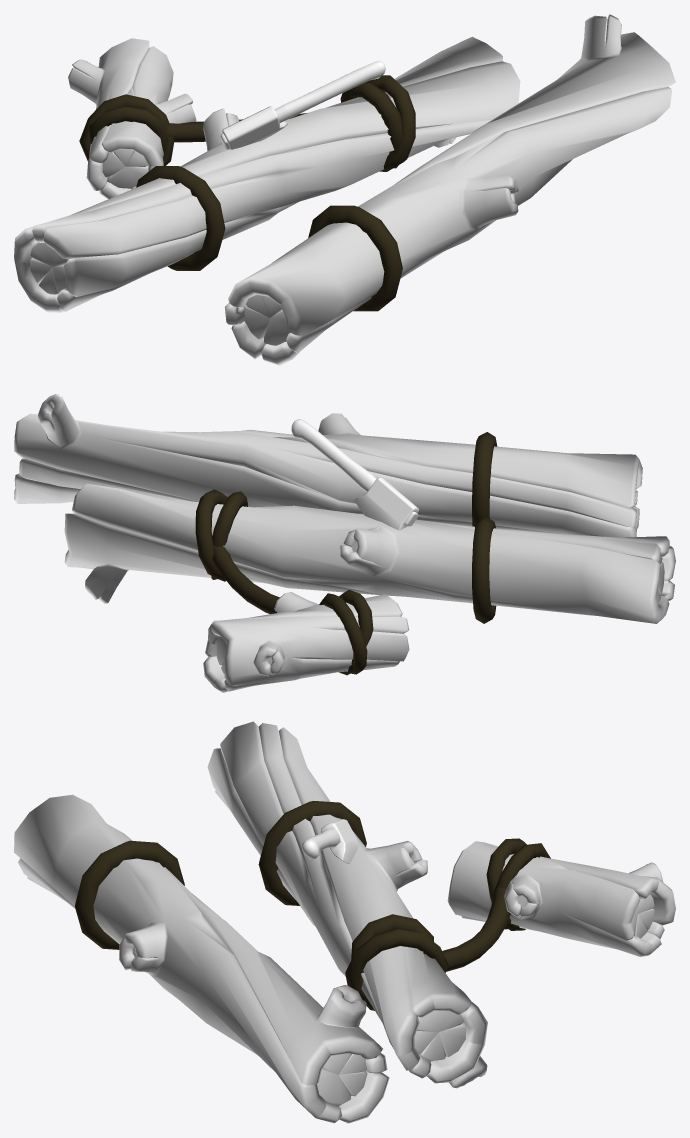
File: Floating Logs 1 (1).fbx
3 views of the same model, one above another, from view 1: azimuth 30°, elevation 25°; view 2: azimuth 150°, elevation 25°; view 3: azimuth 270°, elevation 25° (orthographic). The views are drawn at different scales.
Parts seen in each view (by area): view 1: p_dlc5_log_03 (20), p_dlc5_log_03 (6), p_dlc5_log_01, p_dlc5_hatchet_01 (6), p_dlc5_rope_log_03 (7), p_dlc5_rope_log_02 (4), p_dlc5_rope_log_02 (2), p_dlc5_rope_log_03 (6), AnimationPivot; view 2: p_dlc5_log_03 (6), p_dlc5_log_03 (20), p_dlc5_log_01, p_dlc5_hatchet_01 (6), p_dlc5_rope_log_03 (7), p_dlc5_rope_log_03 (6), p_dlc5_rope_log_02 (2), p_dlc5_rope_log_02 (4), AnimationPivot; view 3: p_dlc5_log_03 (20), p_dlc5_log_03 (6), p_dlc5_log_01, p_dlc5_rope_log_03 (7), p_dlc5_rope_log_02 (4), p_dlc5_rope_log_02 (2), AnimationPivot, p_dlc5_rope_log_03 (6), p_dlc5_hatchet_01 (6).
Boxes of the visible parts, bbox=[...] form: p_dlc5_log_03 (20): bbox=[225, 14, 675, 365]; p_dlc5_log_03 (6): bbox=[14, 36, 520, 312]; p_dlc5_log_01: bbox=[68, 38, 196, 199]; p_dlc5_hatchet_01 (6): bbox=[220, 60, 385, 149]; p_dlc5_rope_log_03 (7): bbox=[340, 75, 415, 171]; p_dlc5_rope_log_02 (4): bbox=[308, 205, 402, 311]; p_dlc5_rope_log_02 (2): bbox=[136, 166, 225, 270]; p_dlc5_rope_log_03 (6): bbox=[79, 94, 174, 165]; AnimationPivot: bbox=[166, 113, 306, 142]; p_dlc5_log_03 (6): bbox=[64, 484, 675, 623]; p_dlc5_log_03 (20): bbox=[14, 394, 642, 537]; p_dlc5_log_01: bbox=[203, 592, 409, 692]; p_dlc5_hatchet_01 (6): bbox=[291, 419, 418, 530]; p_dlc5_rope_log_03 (7): bbox=[195, 489, 247, 581]; p_dlc5_rope_log_03 (6): bbox=[319, 590, 373, 675]; p_dlc5_rope_log_02 (2): bbox=[472, 516, 496, 623]; p_dlc5_rope_log_02 (4): bbox=[472, 432, 497, 526]; AnimationPivot: bbox=[212, 545, 279, 614]; p_dlc5_log_03 (20): bbox=[14, 794, 389, 1123]; p_dlc5_log_03 (6): bbox=[207, 721, 487, 1088]; p_dlc5_log_01: bbox=[447, 841, 675, 956]; p_dlc5_rope_log_03 (7): bbox=[345, 914, 448, 1010]; p_dlc5_rope_log_02 (4): bbox=[75, 840, 184, 949]; p_dlc5_rope_log_02 (2): bbox=[258, 801, 366, 905]; AnimationPivot: bbox=[442, 887, 510, 971]; p_dlc5_rope_log_03 (6): bbox=[486, 838, 550, 930]; p_dlc5_hatchet_01 (6): bbox=[302, 819, 358, 863].
Bounding box in the file's own units: 7.73 × 1.89 × 6.39.
